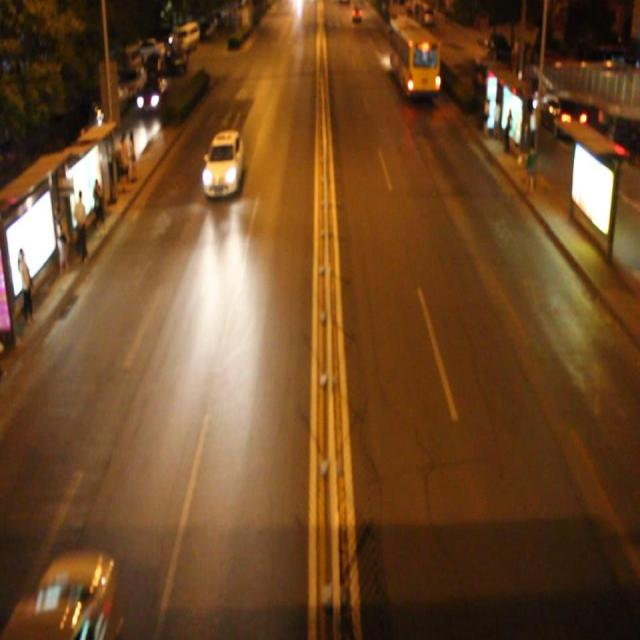car: (20, 548, 120, 640), (201, 128, 244, 201)
van: (390, 14, 439, 94)
